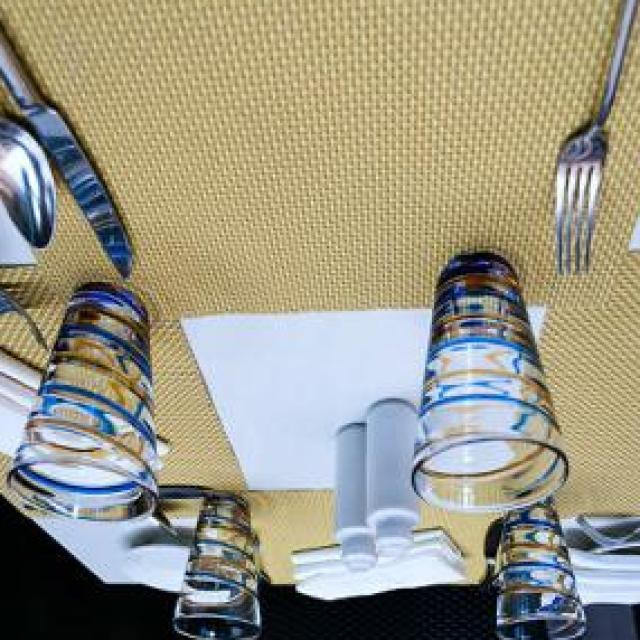knife: (0, 0, 135, 287)
